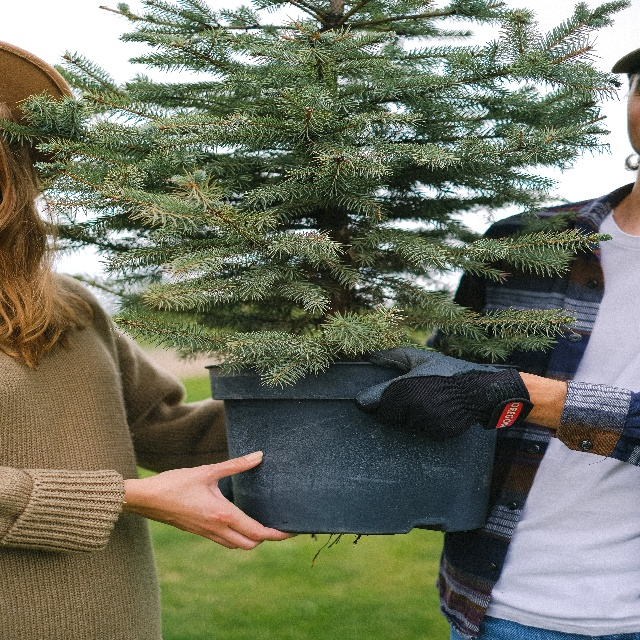Guantes: (353, 343, 534, 442)
Sin_guantes: (145, 450, 298, 551)
